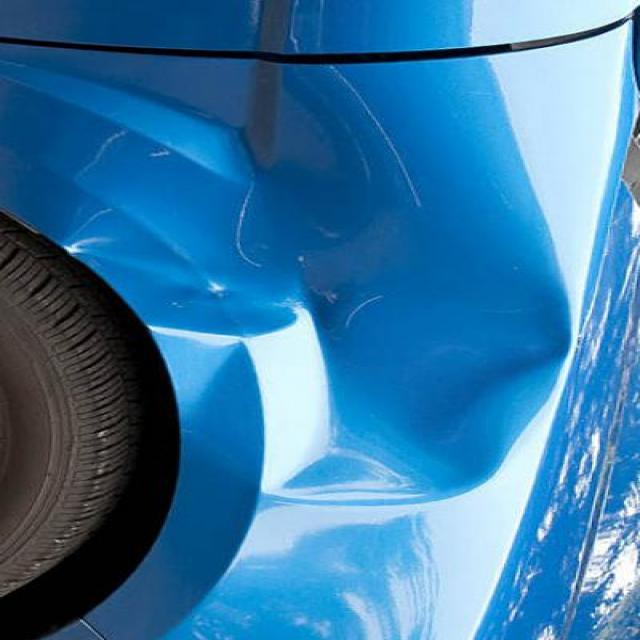dent: (60, 38, 569, 536)
